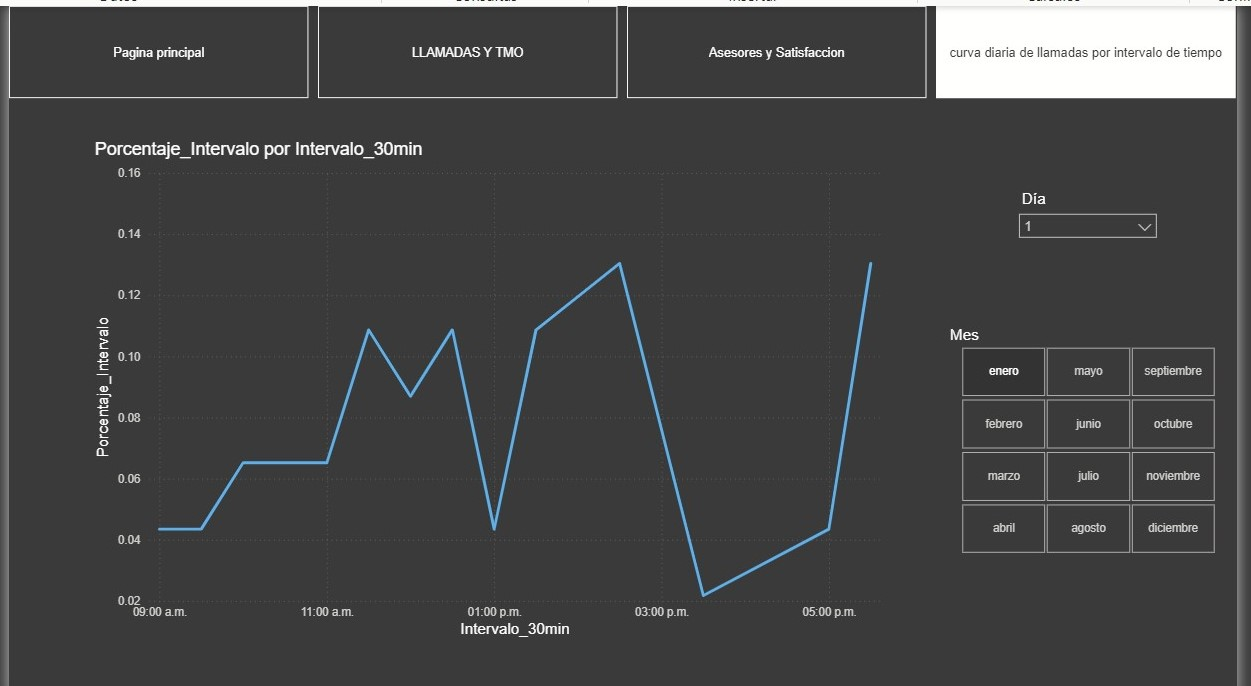

The page's visual inventory and layout, read from the dashboard file:
{"tool":"powerbi","page":{"name":"curva diaria de llamadas por intervalo de tiempo","canvas":[1280,720],"ordinal":3},"visuals":[{"type":"pageNavigator","box":[0,0,1279.4,96.4],"z":0},{"type":"slicer","fields":{"Values":["Data.fecha_Llamada.Variación.Jerarquía de fechas.Día"]},"box":[1042.5,186.4,163.1,132],"z":1000},{"type":"slicer","fields":{"Values":["Data.fecha_Llamada.Variación.Jerarquía de fechas.Mes"]},"box":[966.8,328.1,312.6,248.5],"z":2000},{"type":"lineChart","fields":{"Category":["Data.Intervalo_30min"],"Y":["Indicadores.Porcentaje_Intervalo"]},"box":[83.9,138.8,847.2,523.4],"z":3000}]}

Visuals, with their boxes on the page's 1280x720 design canvas (x1, y1, x2, y2). These are canvas units, not pixel positions in the 1251x686 screenshot, which may show the page scaled, cropped or inside an application window:
pageNavigator: x1=0, y1=0, x2=1279, y2=96
slicer - Data.fecha_Llamada.Variación.Jerarquía de fechas.Día: x1=1042, y1=186, x2=1206, y2=318
slicer - Data.fecha_Llamada.Variación.Jerarquía de fechas.Mes: x1=967, y1=328, x2=1279, y2=577
lineChart - Data.Intervalo_30min x Indicadores.Porcentaje_Intervalo: x1=84, y1=139, x2=931, y2=662
